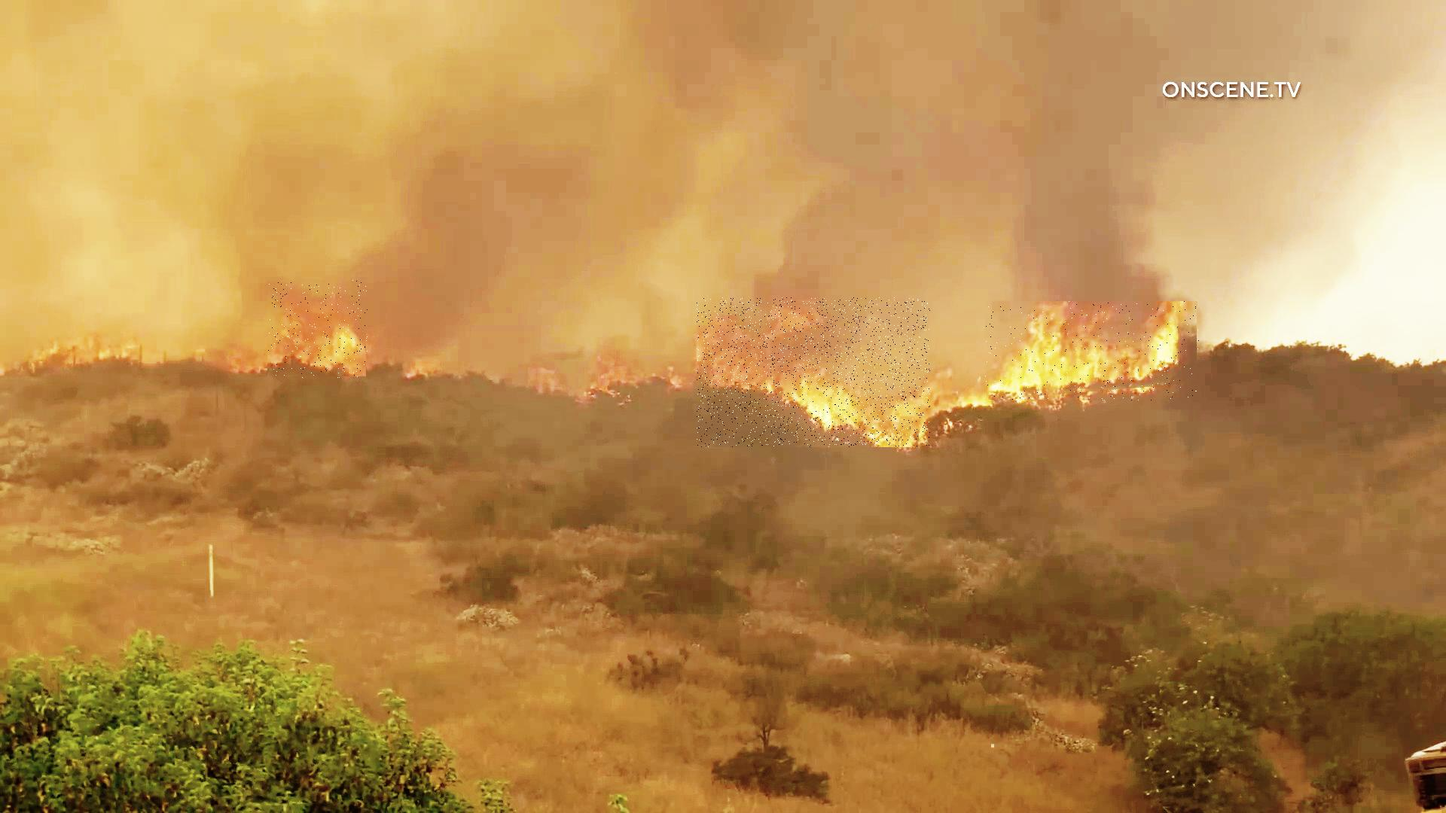fire: (697, 298, 930, 448), (986, 301, 1200, 401), (268, 281, 368, 378)
